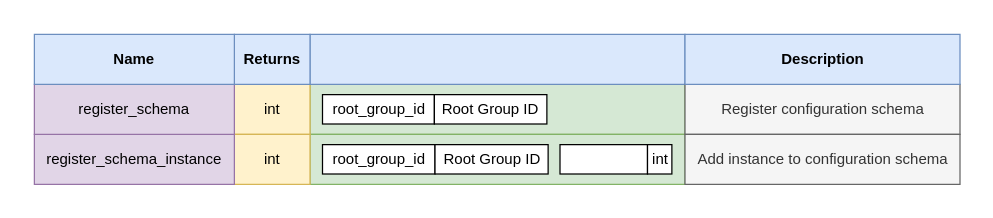
This 993x218 diagram has some shape labels left out. Here are the shapes that lost their labels. From the top down, the box of each, then its label:
(309, 33, 685, 84): Parameters
(559, 143, 648, 174): schema_id
